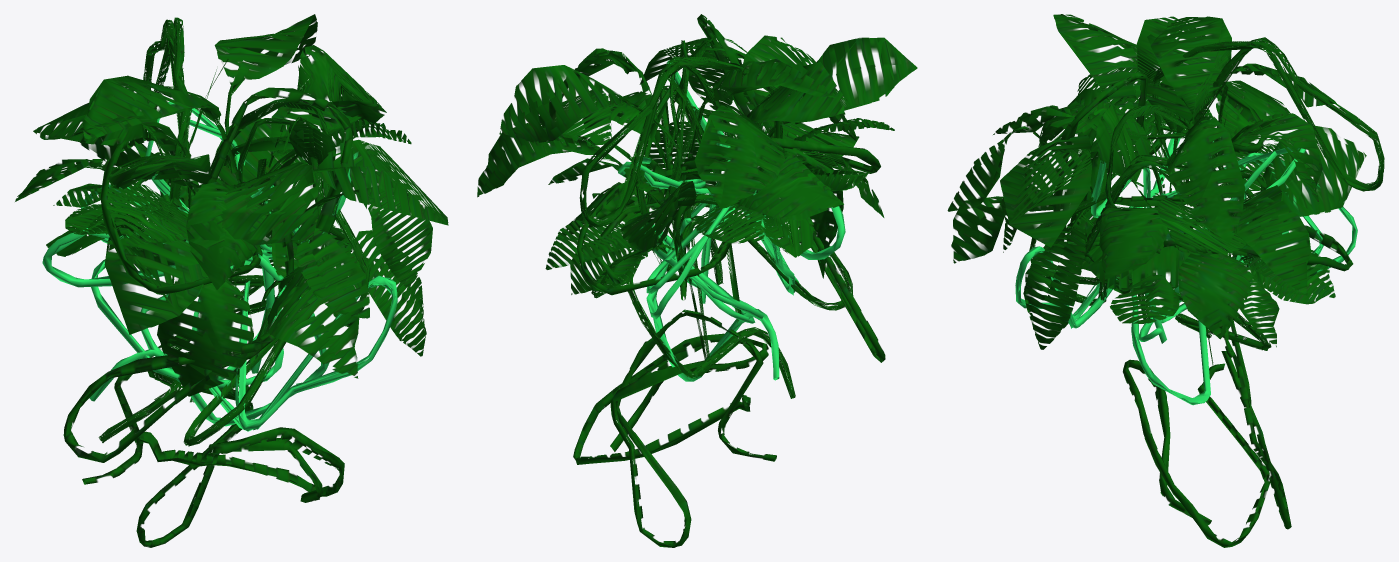
The model's file is worldtree.leaves.one..glb.
3 views of the same model, side by side, from view 1: azimuth 30°, elevation 25°; view 2: azimuth 150°, elevation 25°; view 3: azimuth 270°, elevation 25° (orthographic). The views are drawn at different scales.
Parts seen in each view (by area): view 1: leaf_010_mesh.005; view 2: leaf_010_mesh.005; view 3: leaf_010_mesh.005.
Boxes of the visible parts, x1,y1,x2,y2 form: leaf_010_mesh.005: (15,14,448,547); leaf_010_mesh.005: (477,14,917,547); leaf_010_mesh.005: (947,14,1384,547).
Size of the model in its own units: 1.32 by 1.78 by 1.45.
4 materials, 3 textured.
